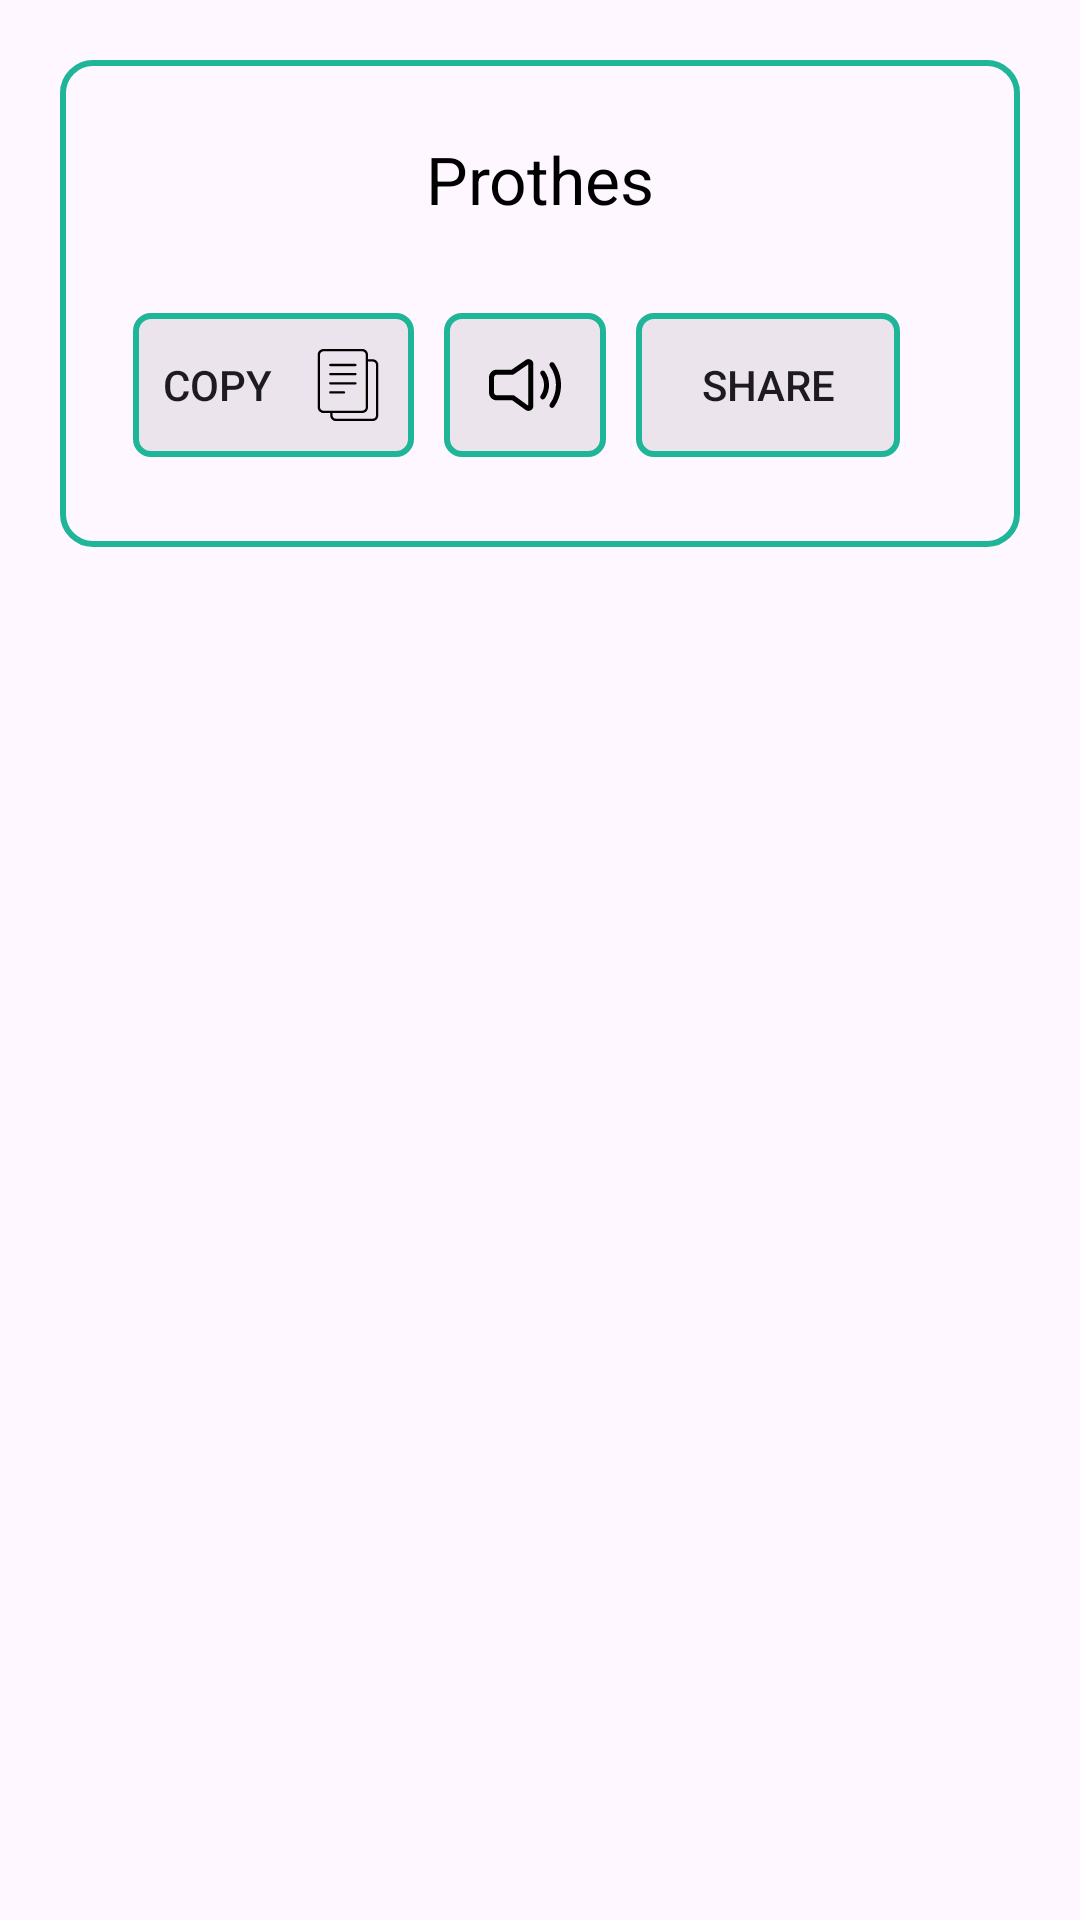

Icon bounding boxes for this 1080px×1920px phone screenshot, format {"x1": x1, "y1": y1, "x2": x2, "y2": y2}:
speaker: {"x1": 444, "y1": 313, "x2": 606, "y2": 457}
